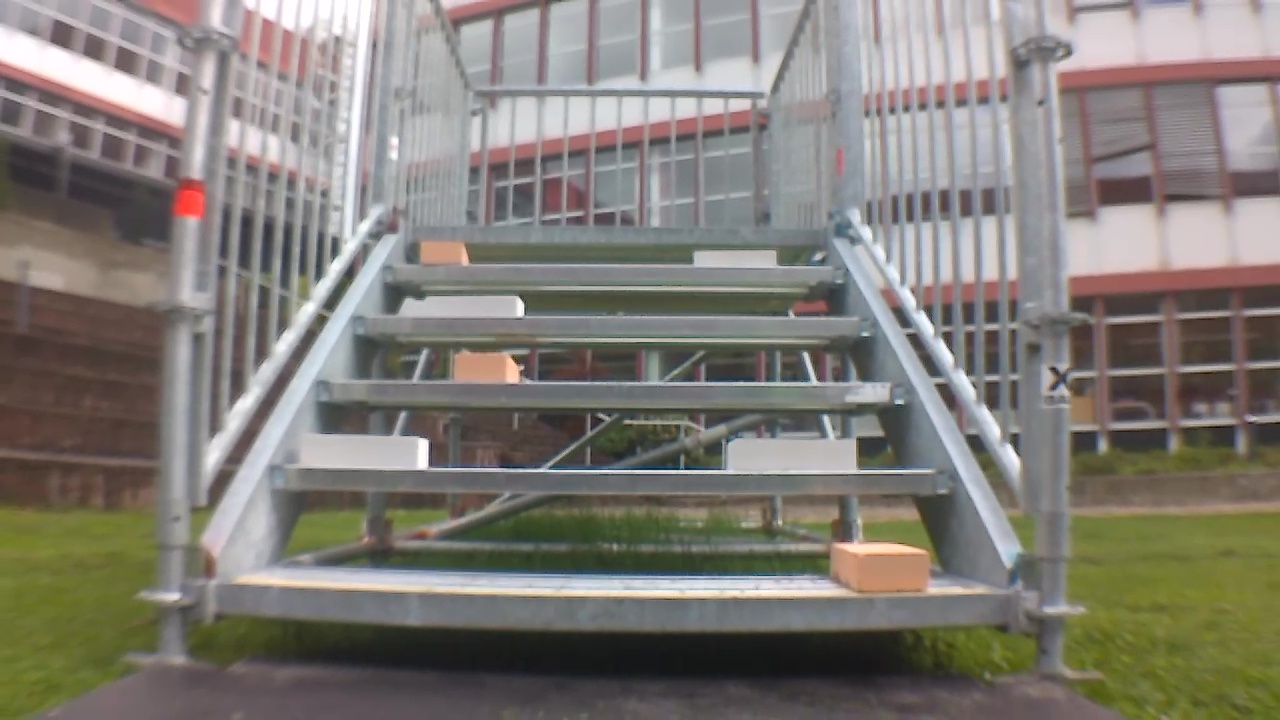brick: (833, 542, 926, 591), (727, 438, 856, 472), (301, 434, 429, 468), (426, 295, 523, 317), (455, 354, 517, 382), (695, 250, 775, 265), (420, 241, 466, 264)
edge: (218, 583, 1010, 630), (270, 468, 959, 494), (316, 381, 914, 406), (349, 316, 874, 336), (383, 264, 849, 285), (411, 226, 828, 244)
stairs: (150, 1, 1087, 674)
steps: (209, 218, 1017, 641)
